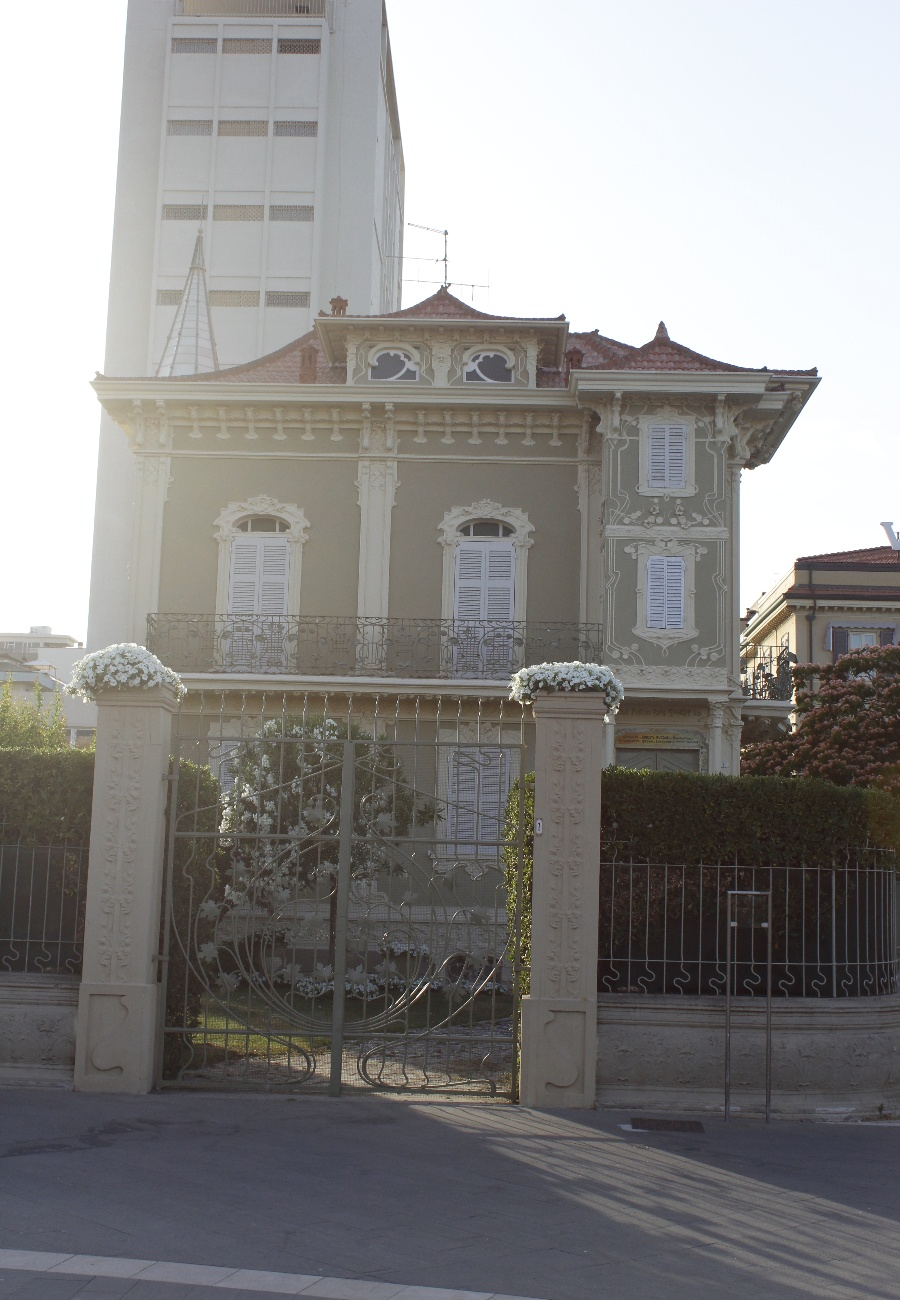Villino Ruggeri: (94, 289, 821, 959)
